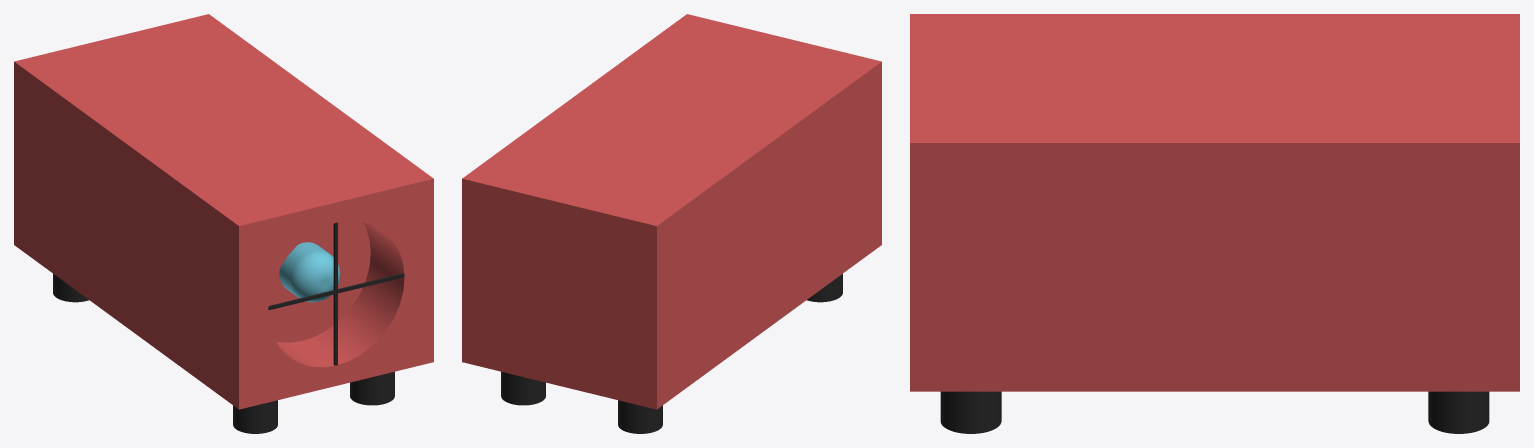
The picture shows the model from 3 angles, left to right: view 1: azimuth 30°, elevation 25°; view 2: azimuth 150°, elevation 25°; view 3: azimuth 270°, elevation 25°; orthographic projection. The views are drawn at different scales.
Visible parts, largest first — view 1: Body1, Bulb, Thread, Leg2, Leg1, Leg3; view 2: Body1, Leg3, Leg4, Leg2; view 3: Body1, Leg1, Leg4.
Part boxes in pixels (x1,y1,x2,y2): Body1: [14, 14, 433, 409]; Bulb: [279, 242, 340, 302]; Thread: [268, 222, 404, 365]; Leg2: [233, 400, 277, 433]; Leg1: [350, 371, 394, 405]; Leg3: [53, 274, 88, 302]; Body1: [462, 14, 881, 409]; Leg3: [618, 400, 662, 433]; Leg4: [501, 371, 545, 405]; Leg2: [807, 274, 842, 302]; Body1: [910, 14, 1519, 391]; Leg1: [940, 391, 1001, 433]; Leg4: [1428, 391, 1489, 433].
Size of the model in its own units: 5 by 5.5 by 10.
